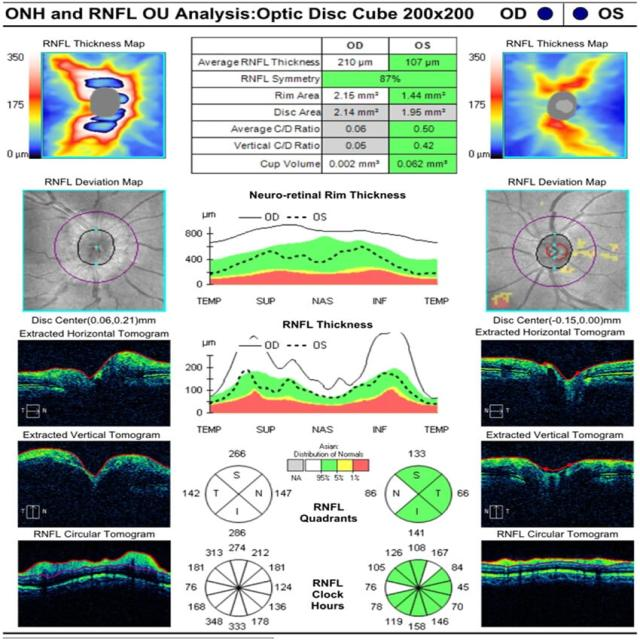rim area: (202, 87, 450, 103)
rim area-od: (328, 85, 387, 102)
rim area-os: (397, 88, 448, 101)
vertical cd ratio: (205, 138, 450, 154)
vertical cd ratio-od: (332, 136, 382, 153)
vertical cd ratio-os: (402, 138, 449, 154)
